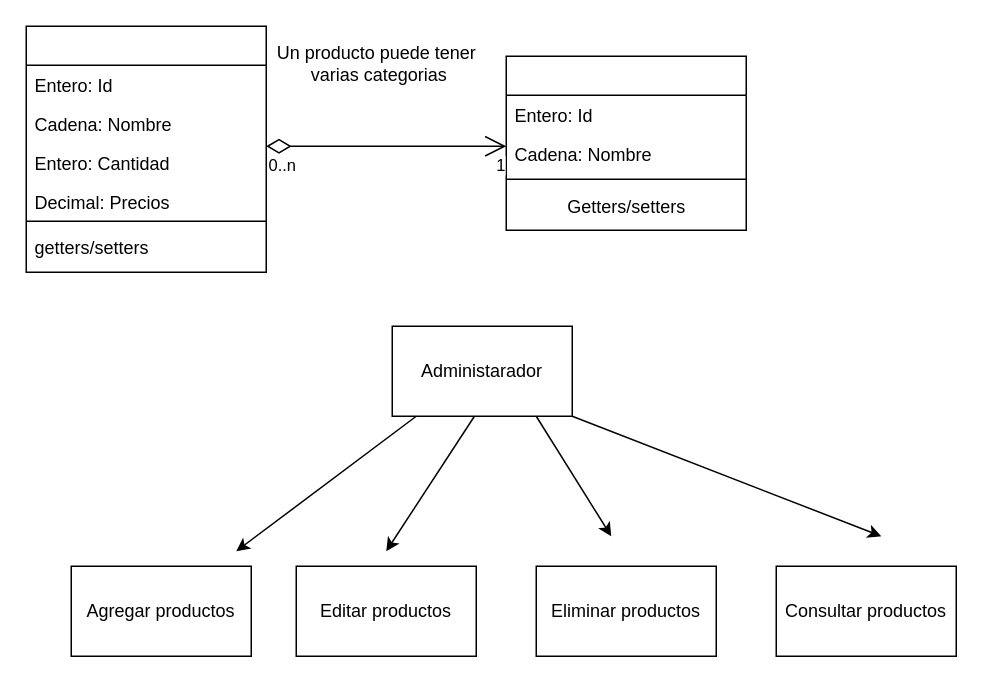
This 983x683 diagram has some shape labels left out. Each missing label, with the box of its shape:
Categoria: (505, 55, 746, 230)
productos: (25, 25, 266, 272)
